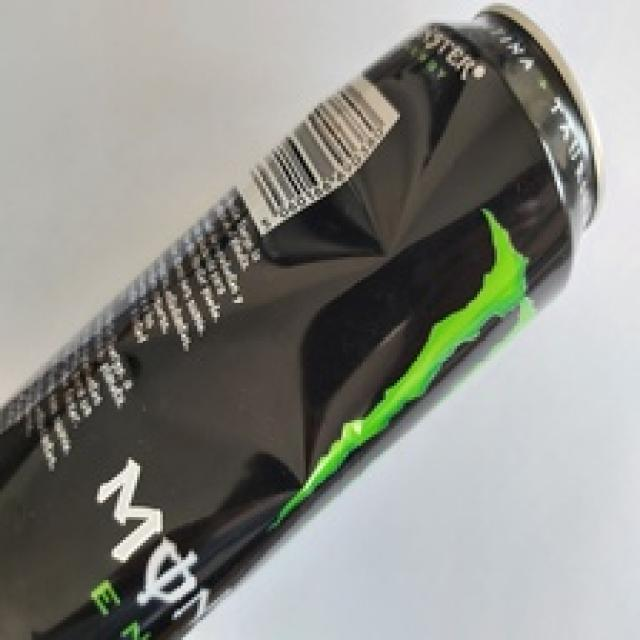recyclable: (0, 3, 606, 640)
